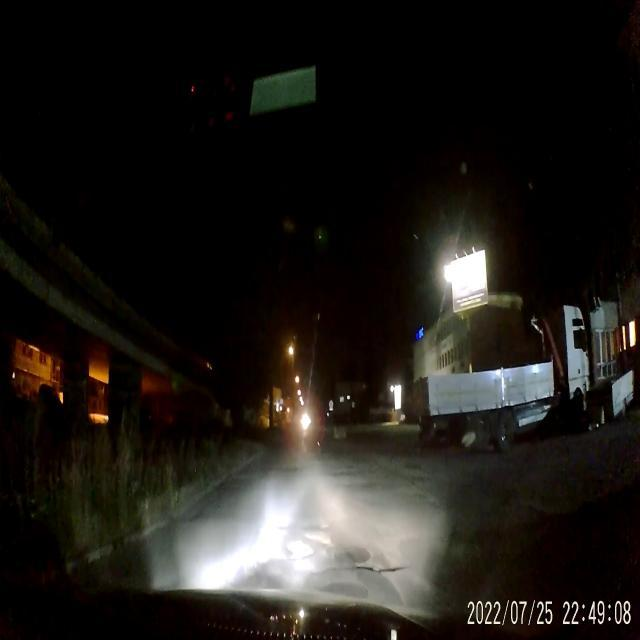Manhole: (333, 546, 373, 569), (322, 581, 367, 595)
Pothole: (284, 537, 314, 565), (377, 562, 412, 573), (316, 520, 332, 534), (274, 520, 290, 532)
